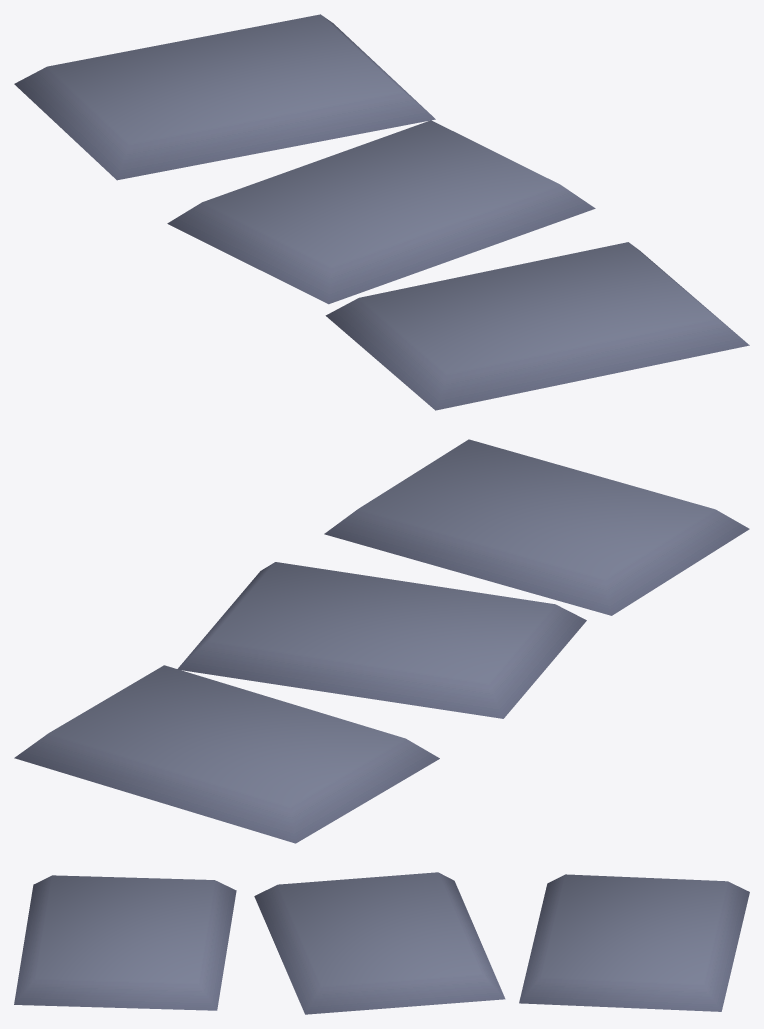
File: sub-path-stones-messy.glb
3 views of the same model, one above another, from view 1: azimuth 30°, elevation 25°; view 2: azimuth 150°, elevation 25°; view 3: azimuth 270°, elevation 25° (orthographic). The views are drawn at different scales.
Visible parts, largest first — view 1: path-stones-messy; view 2: path-stones-messy; view 3: path-stones-messy.
Part boxes in pixels (box(x1,y1,x2,y2)): path-stones-messy: box(14, 14, 749, 410); path-stones-messy: box(14, 439, 749, 843); path-stones-messy: box(14, 872, 749, 1014).
Size of the model in its own units: 1.56 by 0.1001 by 3.61.
1 material, 1 textured.
